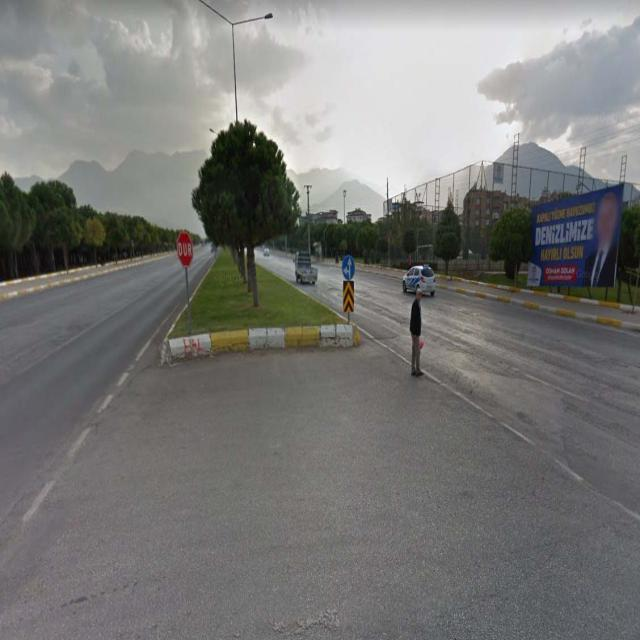dur: (176, 233, 193, 268)
ilerisol: (342, 255, 354, 280)
